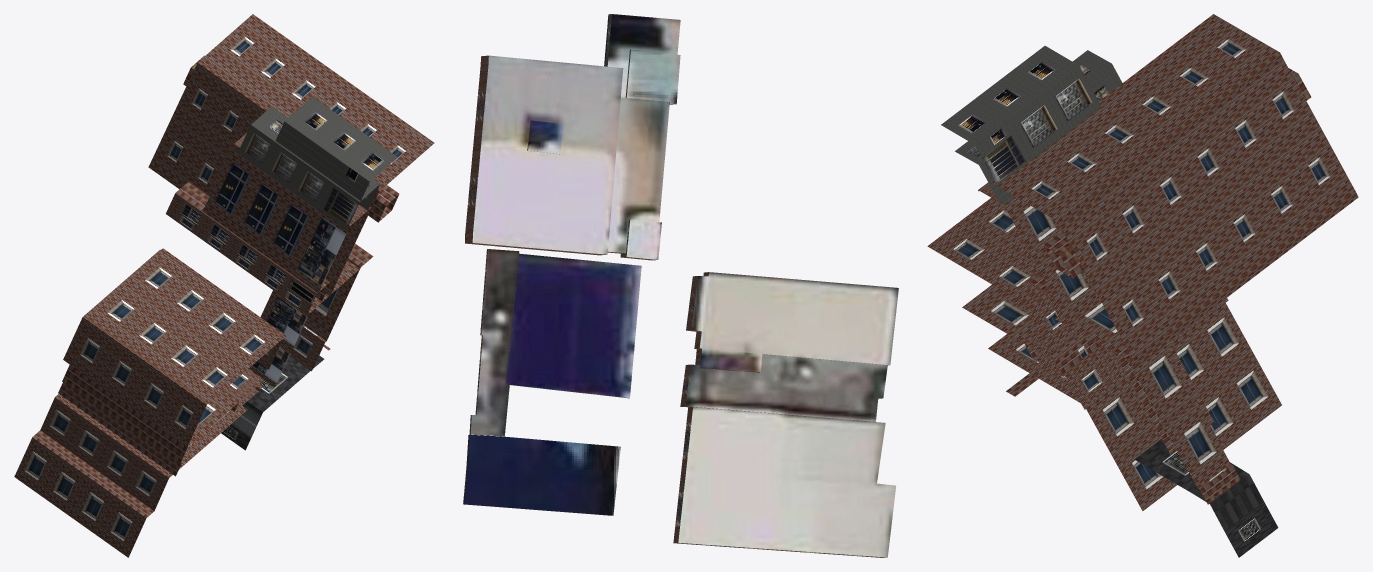
The picture shows the model from 3 angles, left to right: view 1: azimuth 30°, elevation 25°; view 2: azimuth 150°, elevation 25°; view 3: azimuth 270°, elevation 25°; orthographic projection. The views are drawn at different scales.
Size of the model in its own units: 39.93 by 42.9 by 31.56.
Materials: 44 (44 with a texture image).
